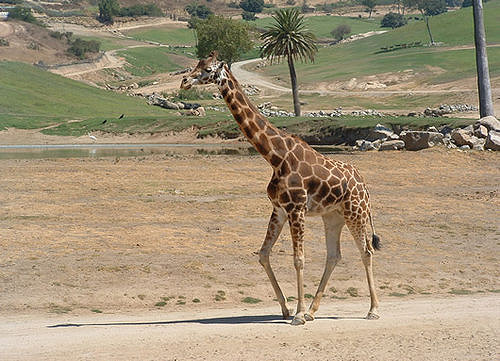giraffe: (182, 45, 394, 339)
